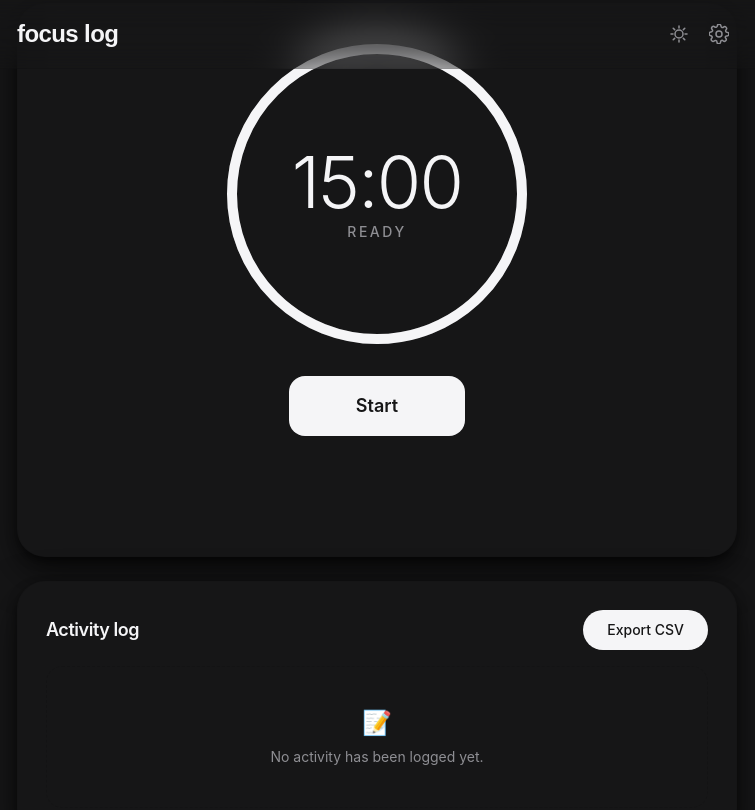
Test: App component/DOM behaviour (fake timers) › reset returns to the full configured duration in the not-running state (Req 5.1)
(page scrolled)
Click the button "Start": x=377, y=406 289,376 -> 465,436
Wait 3000 ms
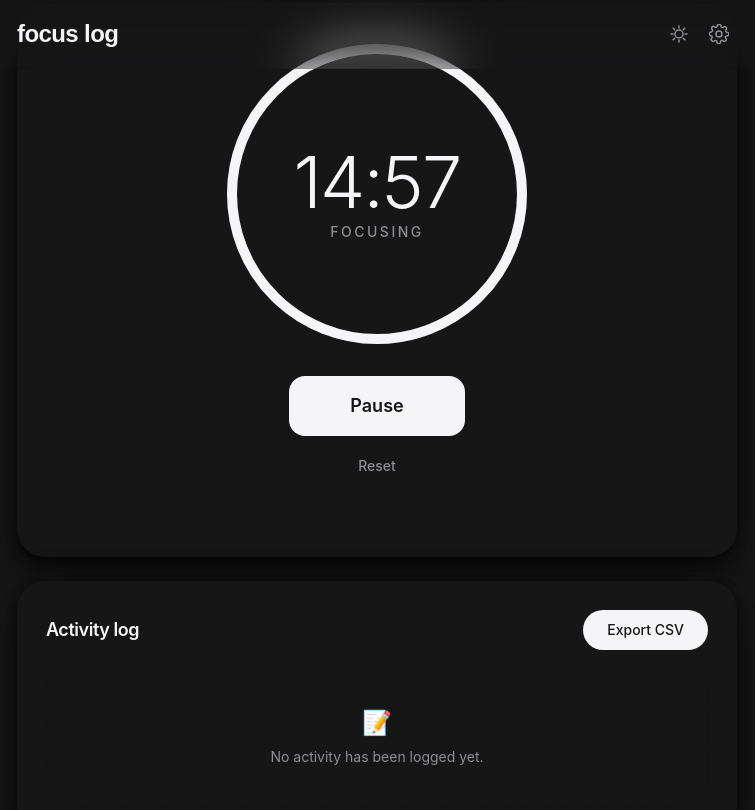
Check: the text "14:57" is shown, box 294,146 -> 460,218
Click the button "Reset": x=377, y=466 338,450 -> 416,482
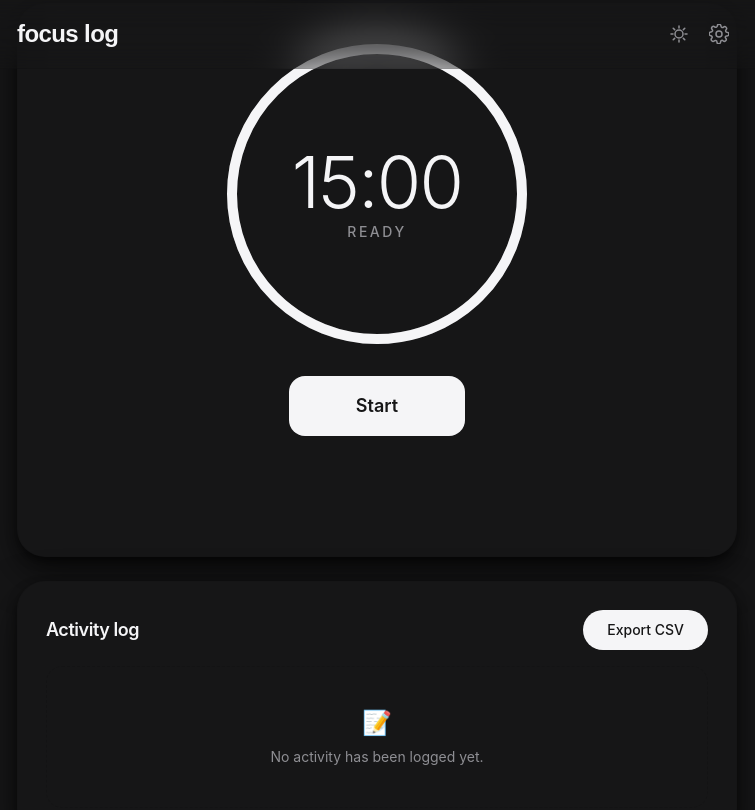
Check: the text "15:00" is shown, box 292,146 -> 462,218
Check: the button "Start" is shown, box 289,376 -> 465,436
